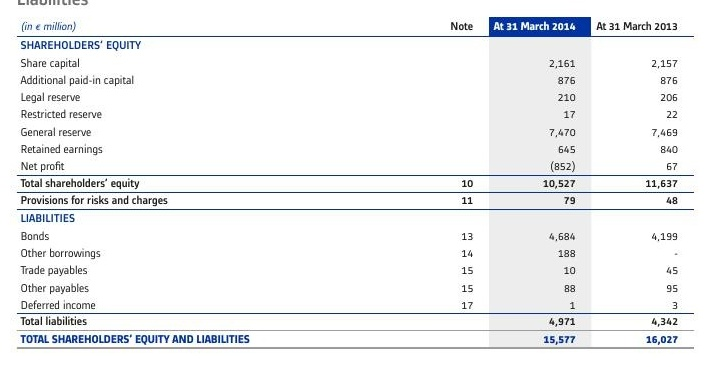table: (0, 0, 721, 367)
